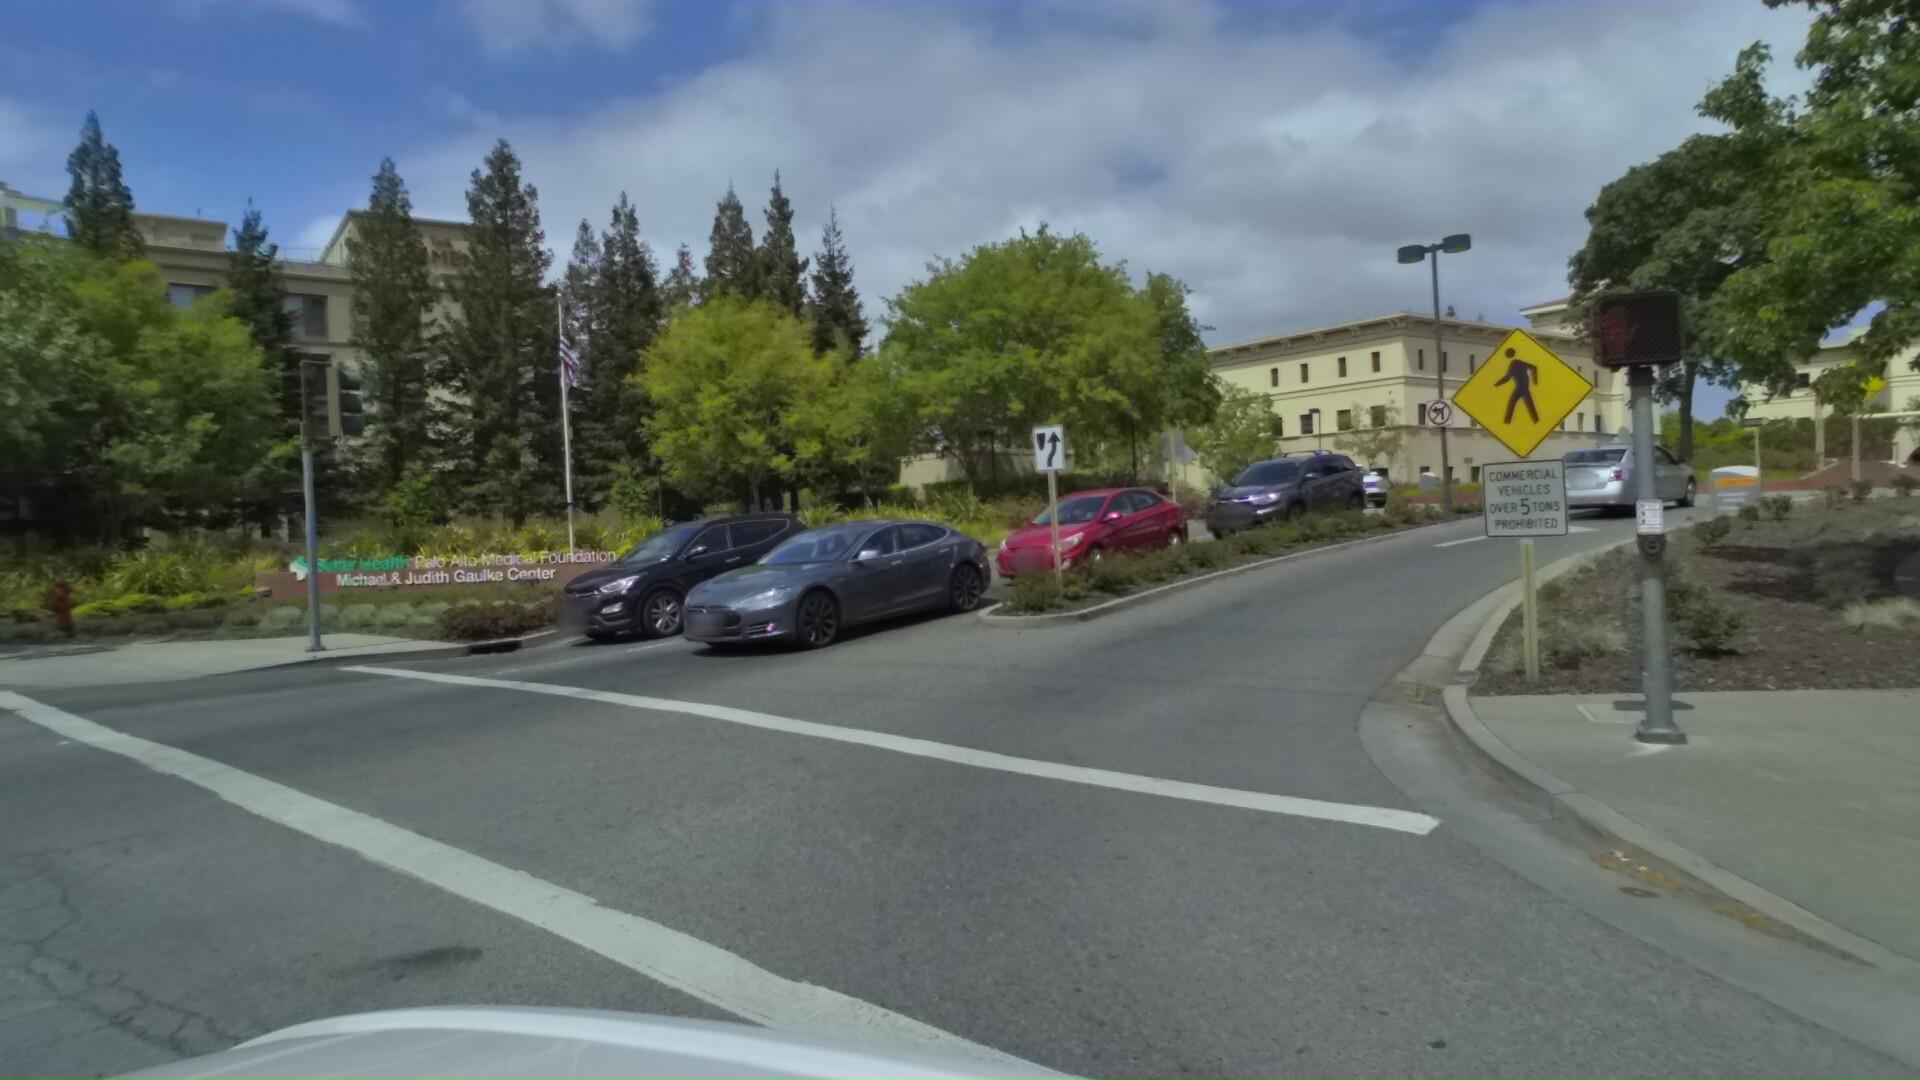car: (661, 501, 1030, 655), (553, 504, 855, 647), (996, 477, 1226, 579), (1203, 444, 1396, 531), (1561, 425, 1730, 512), (1201, 446, 1358, 524)
